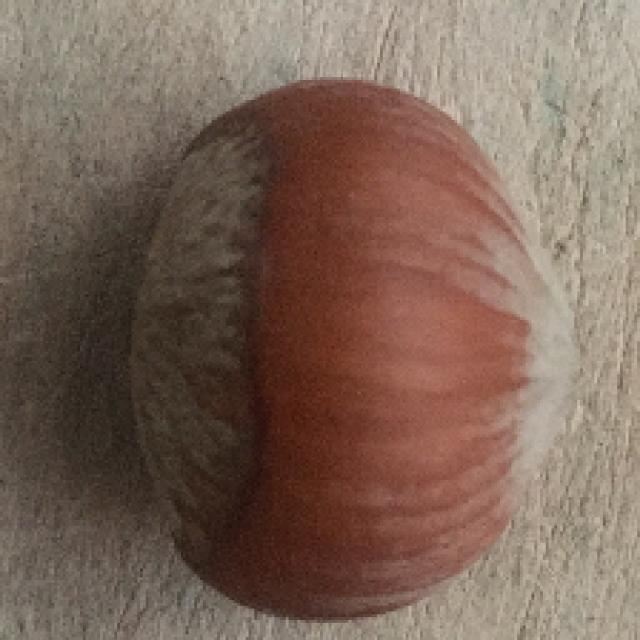qualityHazelnut: (134, 76, 580, 625)
